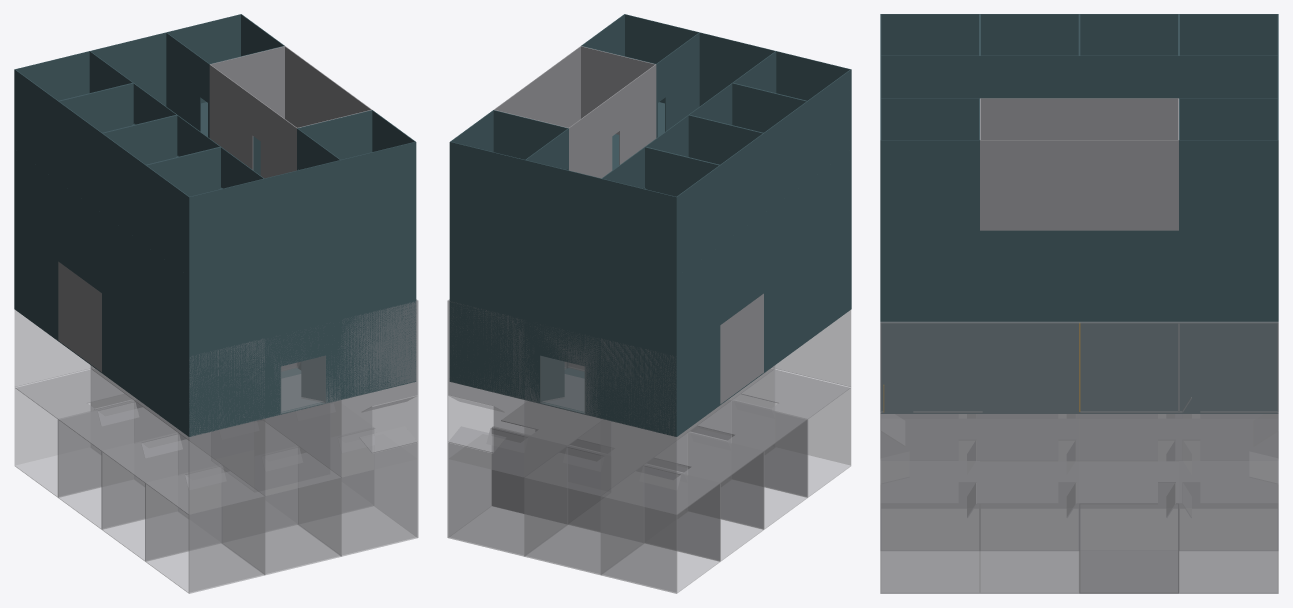
File: 第十六组.glb
3 views of the same model, side by side, from view 1: azimuth 30°, elevation 25°; view 2: azimuth 150°, elevation 25°; view 3: azimuth 270°, elevation 25° (orthographic). The views are drawn at different scales.
Bounding box in the file's own units: 0.0152 × 0.025 × 0.02.
